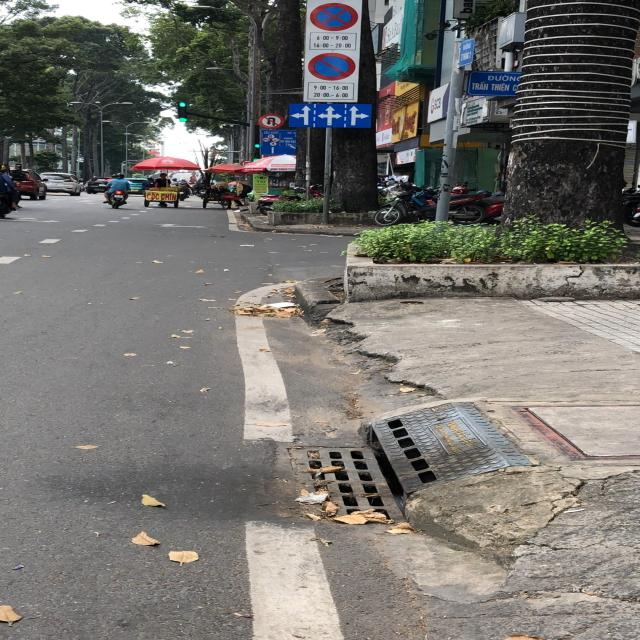Bien bao cam do xe: (306, 52, 361, 82)
Bien bao cam dung xe va do xe: (309, 1, 359, 33)
Bien bao cam quay dau xe: (256, 113, 286, 131)
